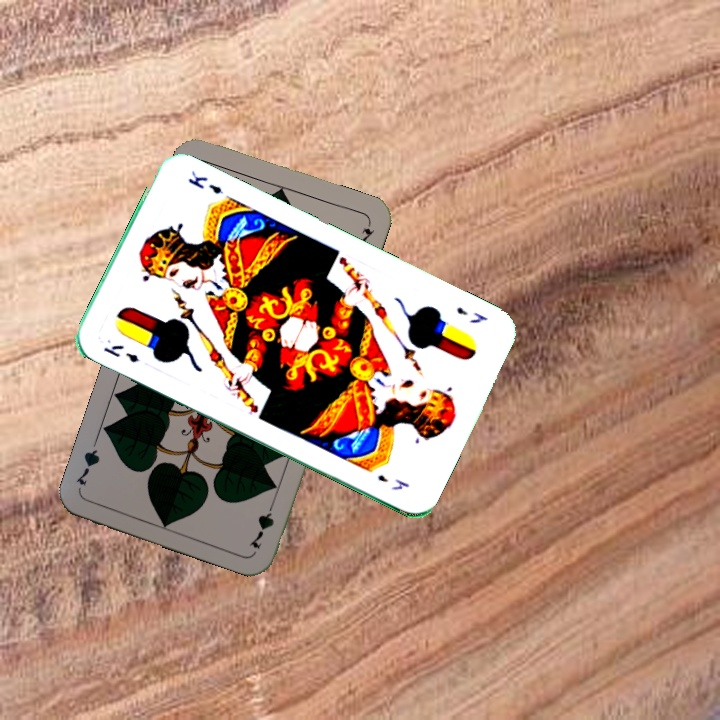EK: (99, 340, 141, 366), (452, 302, 490, 326)
G7: (244, 494, 278, 552)
